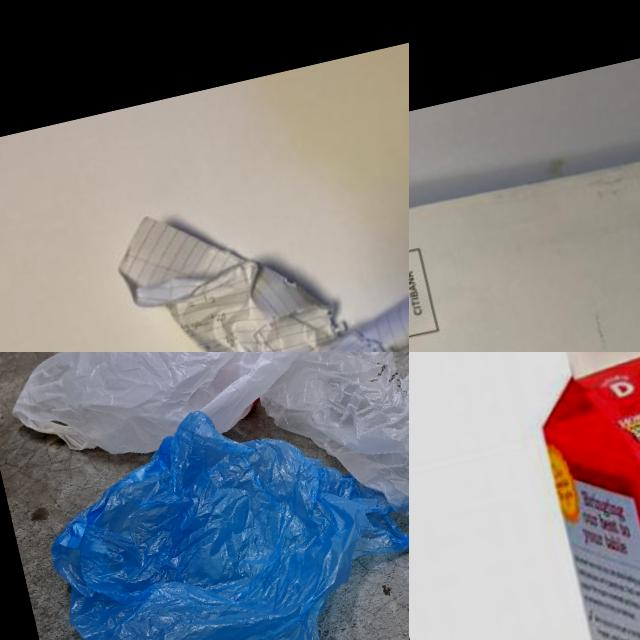caixinha: (516, 352, 640, 640)
papel: (107, 142, 409, 352), (409, 99, 640, 352)
sacola plástica: (23, 363, 409, 640), (0, 352, 333, 478), (244, 352, 409, 595)
